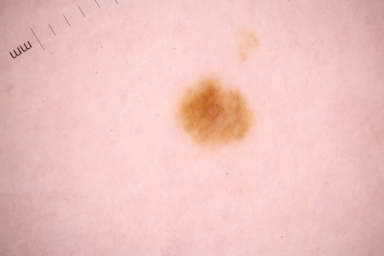melanoma: (180, 78, 251, 147)
